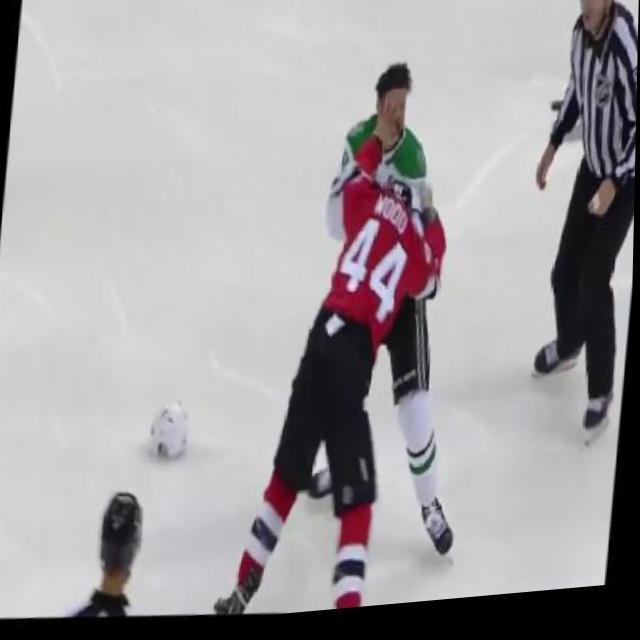fight: (262, 52, 482, 621)
